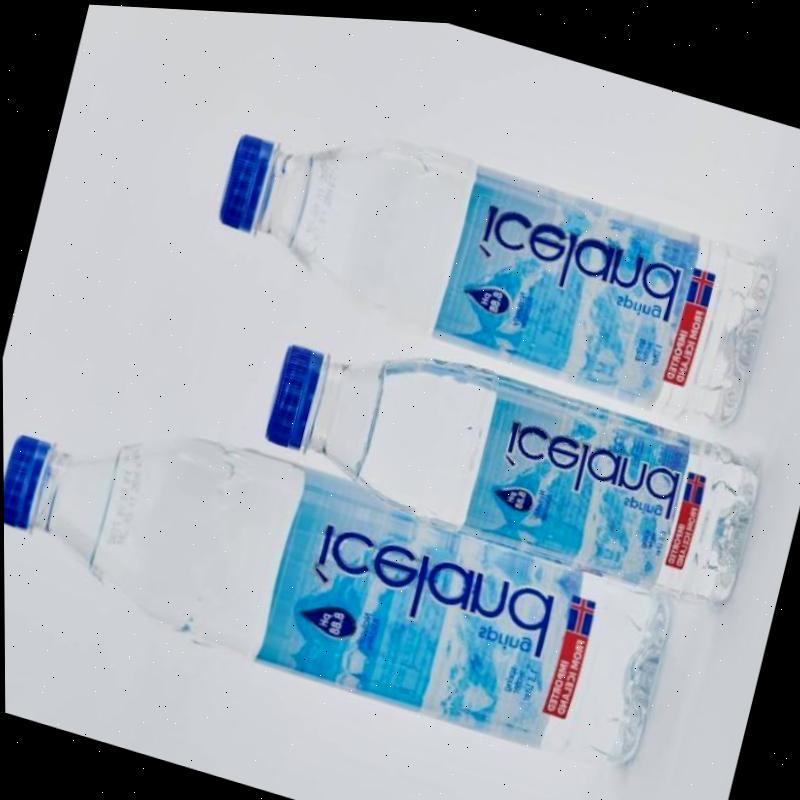botella: (2, 379, 682, 774), (201, 90, 782, 429), (253, 305, 767, 604)
